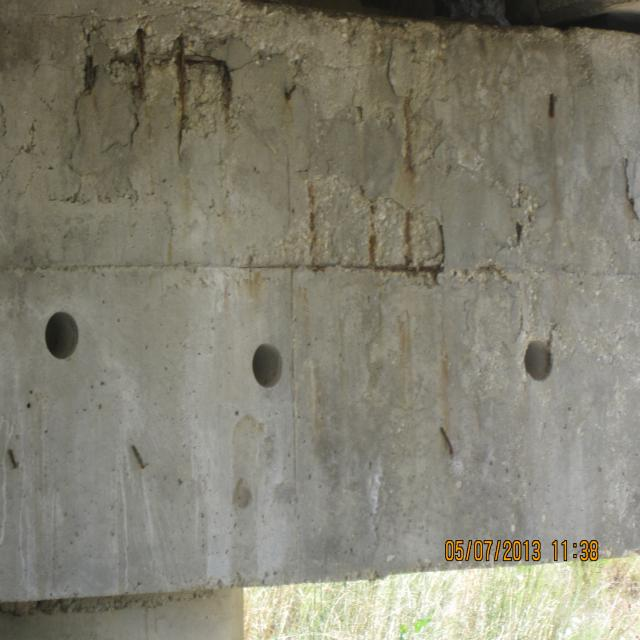corrosion: (67, 31, 452, 305), (293, 288, 466, 474), (126, 438, 156, 477), (4, 442, 30, 475)
